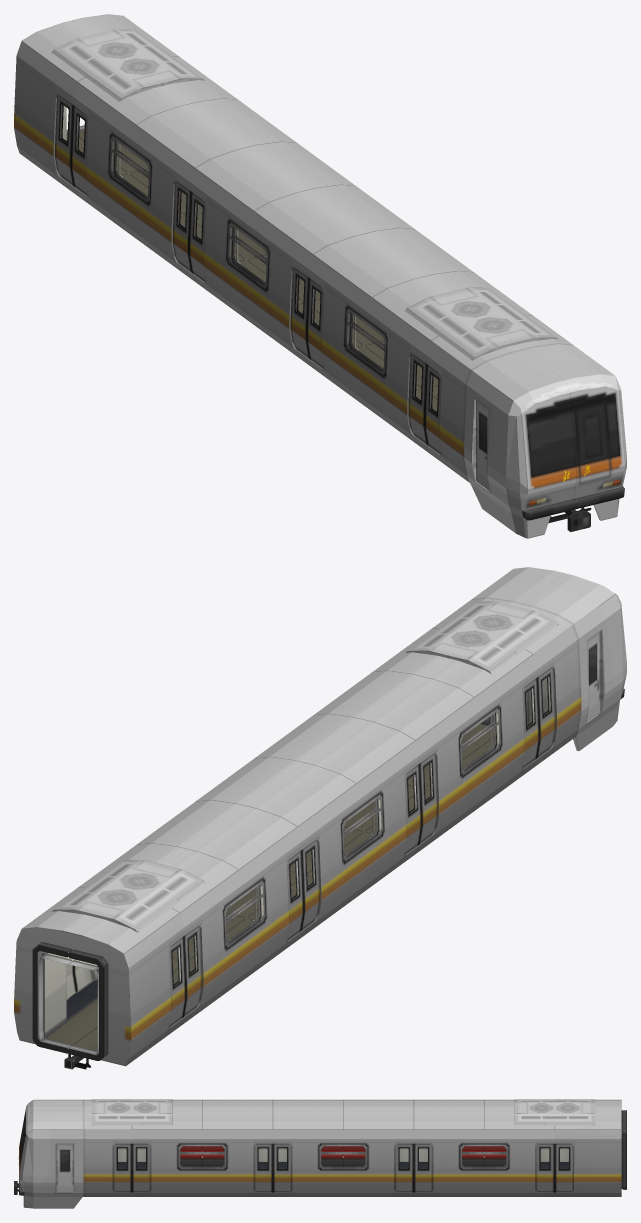
Rendered from dkz_10.obj.
The picture shows the model from 3 angles, top to bottom: view 1: azimuth 30°, elevation 25°; view 2: azimuth 150°, elevation 25°; view 3: azimuth 270°, elevation 25°; orthographic projection. The views are drawn at different scales.
Parts seen in each view (by area): view 1: window_exterior, head_exterior, end_exterior, window, door_right_negative_exterior, door_right_positive_exterior, end; view 2: window_exterior, end_exterior, head_exterior, window, end, door_right_positive_exterior, door_right_negative_exterior, head; view 3: window_exterior, head_exterior, end_exterior, door_left_positive_exterior, door_left_negative_exterior, window, door_right_positive, door_right_negative.
Boxes of the visible parts, left/top/right/bottom form: window_exterior: left=51, top=29, right=558, bottom=452; head_exterior: left=426, top=315, right=626, bottom=538; end_exterior: left=14, top=14, right=179, bottom=193; window: left=111, top=104, right=438, bottom=411; door_right_negative_exterior: left=55, top=94, right=427, bottom=444; door_right_positive_exterior: left=71, top=105, right=441, bottom=454; end: left=62, top=105, right=148, bottom=174; window_exterior: left=52, top=601, right=558, bottom=1024; end_exterior: left=14, top=887, right=184, bottom=1069; head_exterior: left=431, top=567, right=626, bottom=766; window: left=77, top=712, right=499, bottom=996; end: left=39, top=933, right=98, bottom=1054; door_right_positive_exterior: left=183, top=666, right=555, bottom=1017; door_right_negative_exterior: left=169, top=677, right=539, bottom=1026; head: left=462, top=678, right=548, bottom=747; window_exterior: left=91, top=1099, right=595, bottom=1196; head_exterior: left=14, top=1099, right=131, bottom=1208; end_exterior: left=554, top=1099, right=626, bottom=1196; door_left_positive_exterior: left=112, top=1143, right=554, bottom=1192; door_left_negative_exterior: left=132, top=1143, right=574, bottom=1192; window: left=137, top=1146, right=549, bottom=1168; door_right_positive: left=118, top=1144, right=549, bottom=1161; door_right_negative: left=137, top=1148, right=568, bottom=1161.
Bounding box in the file's own units: 2.88 × 3.38 × 21.75.
Materials: 4 (4 with a texture image).
